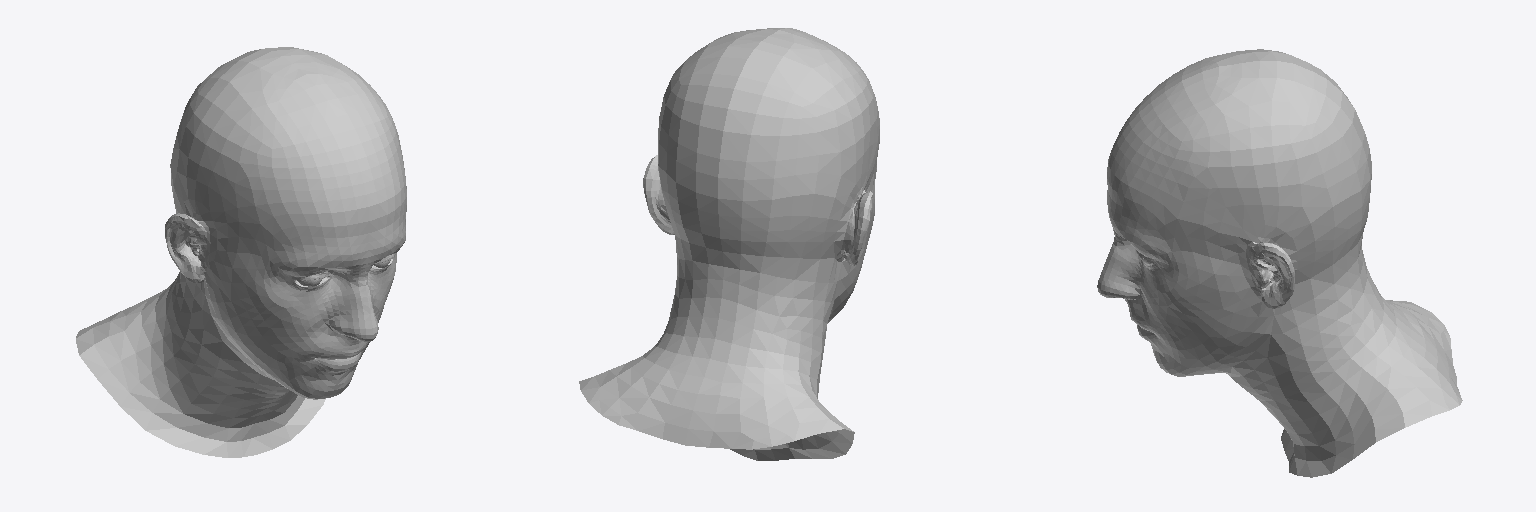
File: bareteeth.000001.26_C.obj
3 renders of one model, left to right at view 1: azimuth 30°, elevation 25°; view 2: azimuth 150°, elevation 25°; view 3: azimuth 270°, elevation 25°, orthographic.
Size of the model in its own units: 0.2177 by 0.3341 by 0.2721.